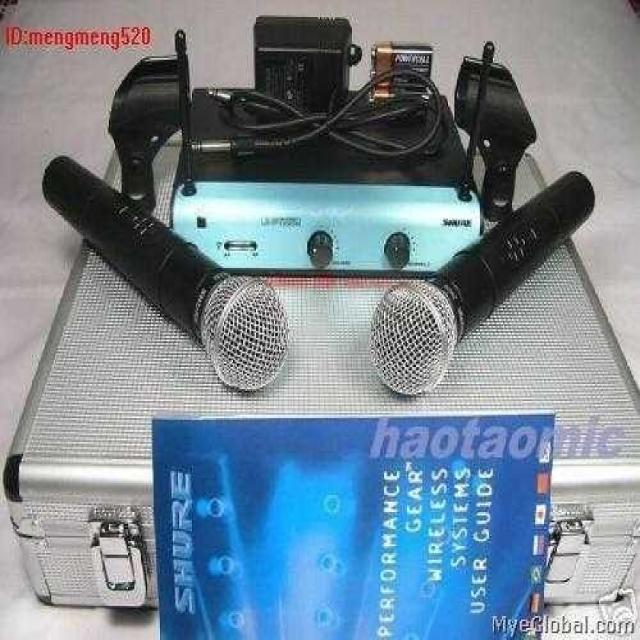microphone: (38, 154, 279, 392), (383, 168, 596, 396)
